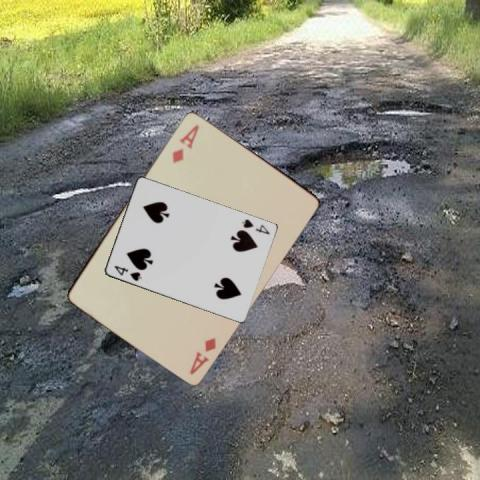4s: (110, 262, 142, 283), (238, 216, 271, 236)
Ad: (168, 121, 200, 165), (187, 334, 217, 376)
